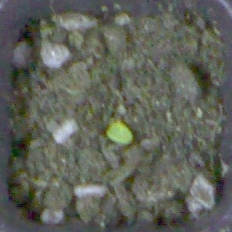pepper seed: (39, 46, 173, 193)
